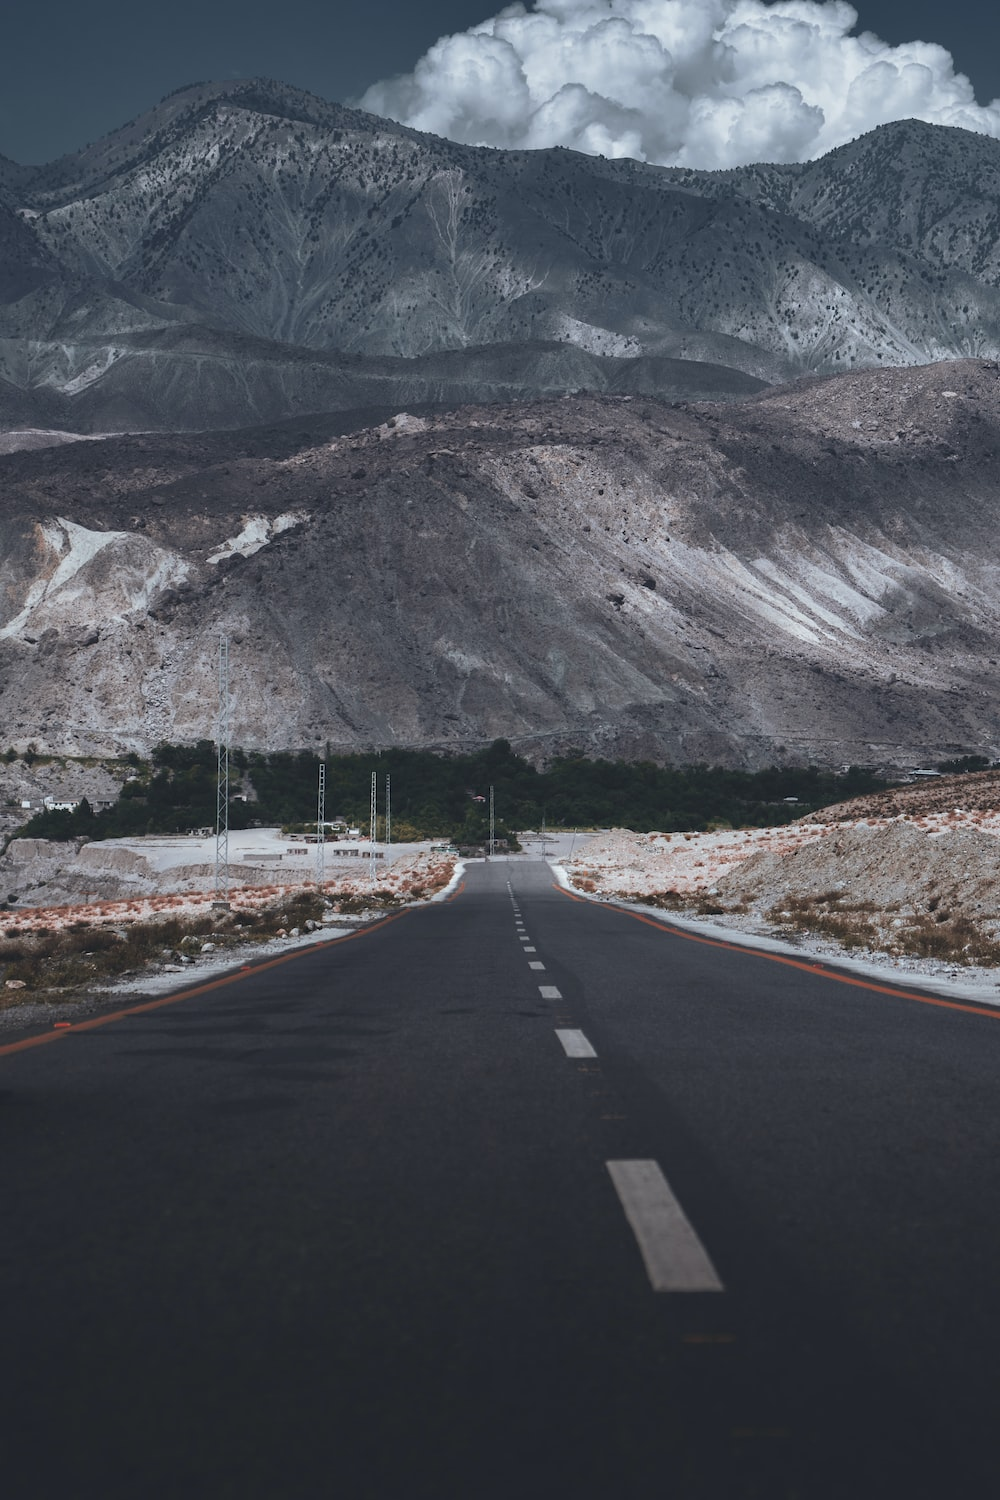straightRoad: (266, 842, 859, 1376)
